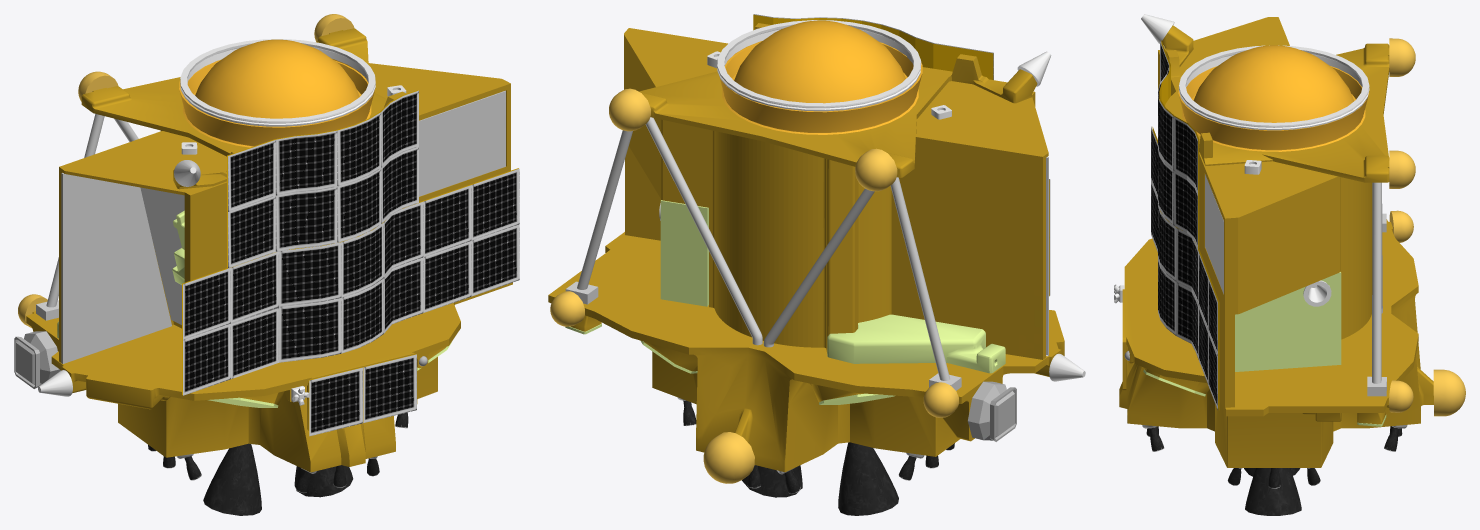
The model's file is slim.glb.
The picture shows the model from 3 angles, left to right: view 1: azimuth 30°, elevation 25°; view 2: azimuth 150°, elevation 25°; view 3: azimuth 270°, elevation 25°; orthographic projection. The views are drawn at different scales.
Visible parts, largest first — view 1: SLIM.SolarPanel_SLIM.SolarPanel_0, SLIM.Body_BottomPlate_x1.001_SLIM.Body_0, SLIM.ABS_Top_x2_SLIM.Parts_0, SLIM.SolarPanel_SLIM.SolarPanel.Back_0; view 2: SLIM.Body_BottomPlate_x1.001_SLIM.Body_0, SLIM.ABS_Top_x2_SLIM.Parts_0, SLIM.SolarPanel_SLIM.SolarPanel.Back_0; view 3: SLIM.Body_BottomPlate_x1.001_SLIM.Body_0, SLIM.ABS_Top_x2_SLIM.Parts_0, SLIM.SolarPanel_SLIM.SolarPanel_0, SLIM.SolarPanel_SLIM.SolarPanel.Back_0.
Part boxes in pixels (box(x1,y1,x2,y2)): SLIM.SolarPanel_SLIM.SolarPanel_0: box(183, 90, 519, 436); SLIM.Body_BottomPlate_x1.001_SLIM.Body_0: box(26, 28, 512, 473); SLIM.ABS_Top_x2_SLIM.Parts_0: box(14, 14, 505, 515); SLIM.SolarPanel_SLIM.SolarPanel.Back_0: box(182, 90, 518, 435); SLIM.Body_BottomPlate_x1.001_SLIM.Body_0: box(548, 20, 1064, 474); SLIM.ABS_Top_x2_SLIM.Parts_0: box(550, 20, 1085, 515); SLIM.SolarPanel_SLIM.SolarPanel.Back_0: box(753, 14, 1049, 296); SLIM.Body_BottomPlate_x1.001_SLIM.Body_0: box(1119, 17, 1433, 468); SLIM.ABS_Top_x2_SLIM.Parts_0: box(1114, 14, 1465, 515); SLIM.SolarPanel_SLIM.SolarPanel_0: box(1151, 41, 1217, 410); SLIM.SolarPanel_SLIM.SolarPanel.Back_0: box(1152, 40, 1219, 410).
Size of the model in its own units: 2.34 by 2.19 by 1.6.
4 materials, 3 textured.
